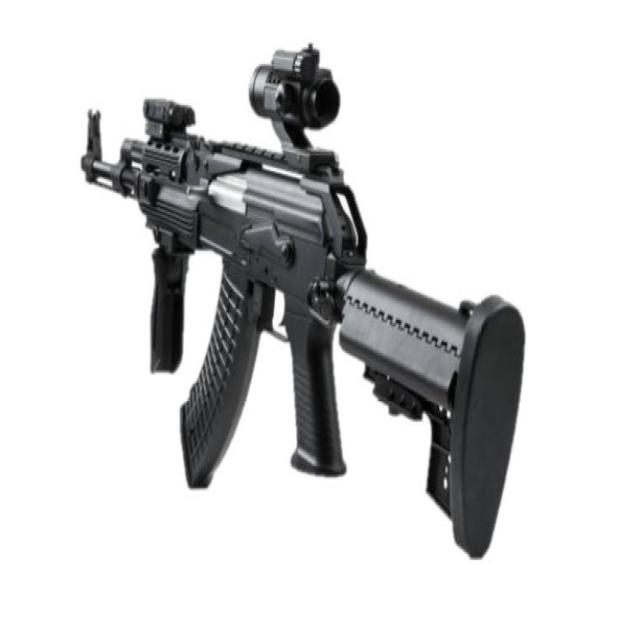rifle: (75, 34, 531, 572)
